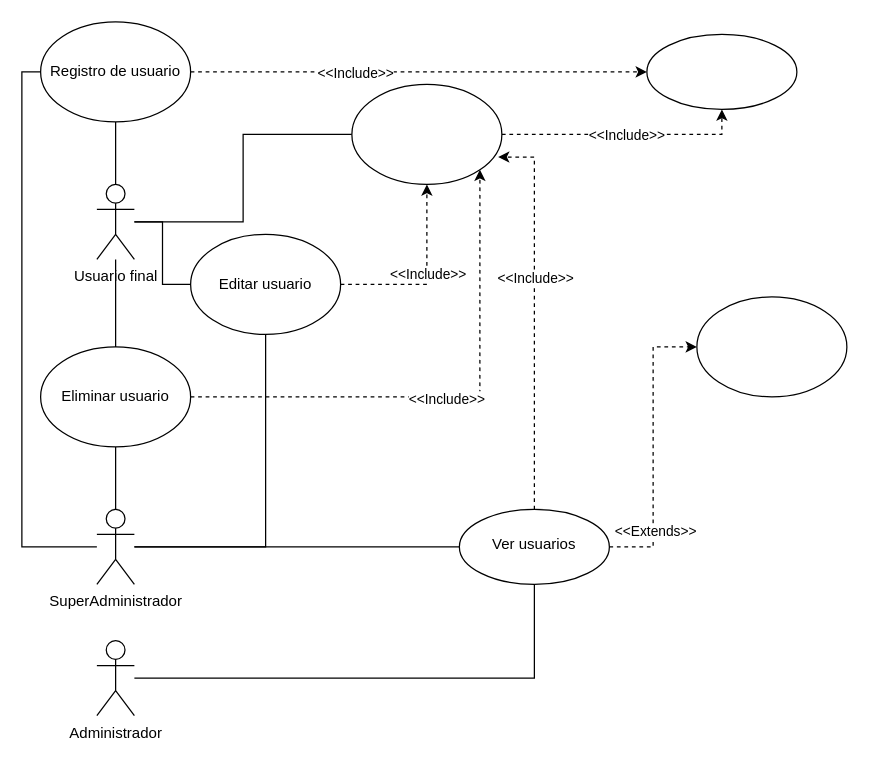
Image size: 869x764. Some labels were removed from this diagram. The box of each missing label's shape, as (x1, y1, x2, y2) in pixels:
Asignar permisos y roles a los usuarios: (696, 296, 847, 397)
Cifrar contraseña: (646, 33, 797, 109)
Login de Usuario: (351, 83, 502, 184)
